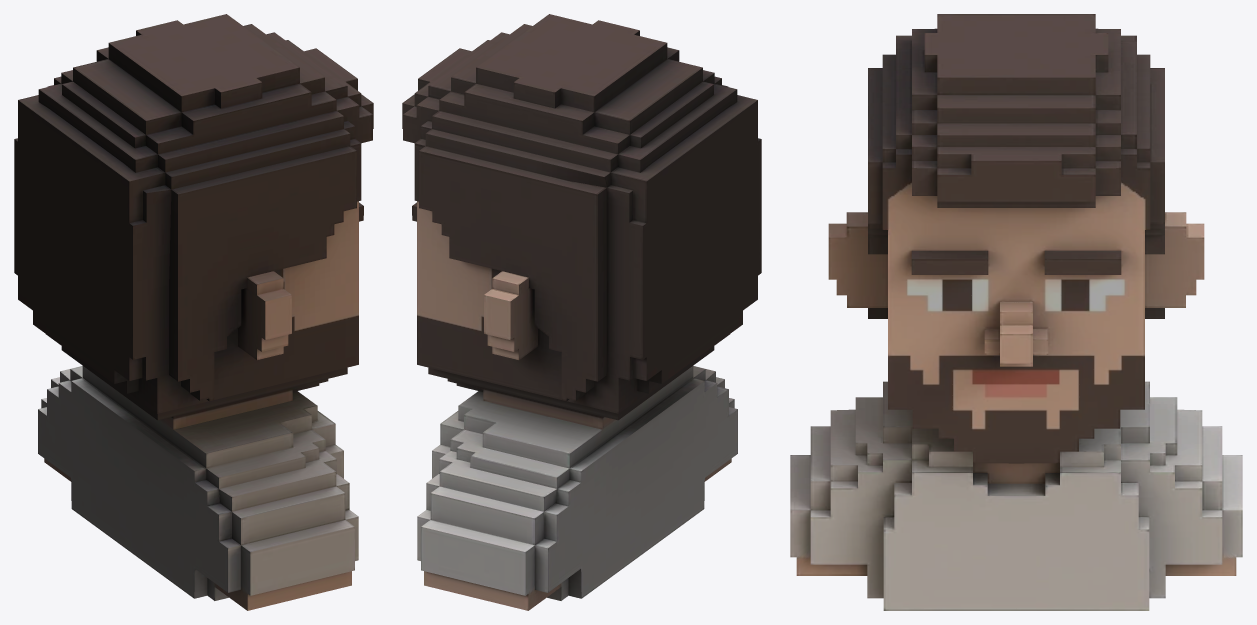
File: voxel-avatar.glb
The picture shows the model from 3 angles, left to right: view 1: azimuth 30°, elevation 25°; view 2: azimuth 150°, elevation 25°; view 3: azimuth 270°, elevation 25°; orthographic projection. The views are drawn at different scales.
Parts seen in each view (by area): view 1: Plane; view 2: Plane; view 3: Plane.
Boxes of the visible parts, x1,y1,x2,y2 form: Plane: (14, 14, 373, 610); Plane: (402, 14, 761, 610); Plane: (790, 14, 1242, 610).
Size of the model in its own units: 0.573 by 0.9999 by 0.7872.
Materials: 1 (1 with a texture image).
